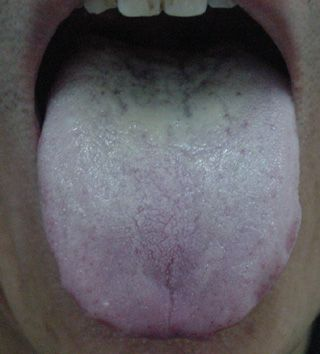hongdianshe: (234, 89, 242, 98)
huangtaishe: (37, 23, 302, 336)
zishe: (37, 23, 302, 336)
